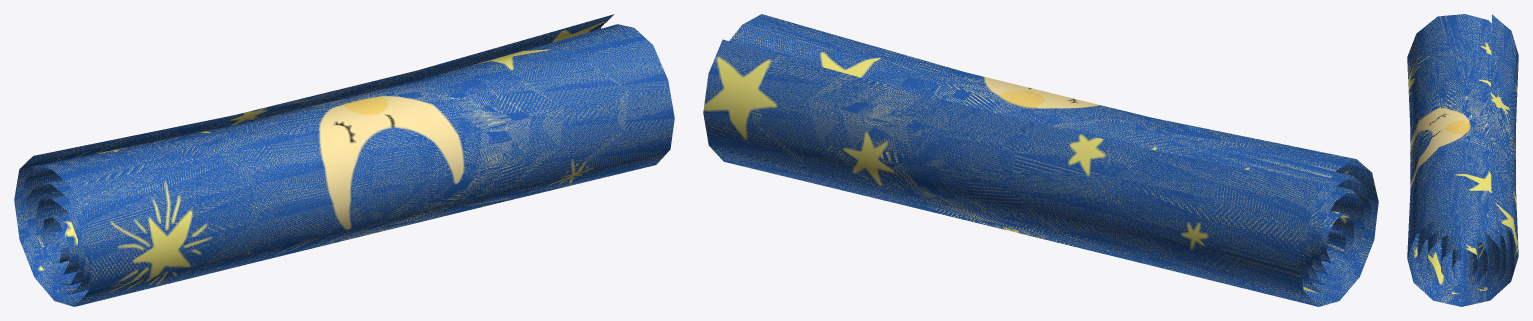
File: 157_paper_roll.glb
3 views of the same model, side by side, from view 1: azimuth 30°, elevation 25°; view 2: azimuth 150°, elevation 25°; view 3: azimuth 270°, elevation 25° (orthographic). The views are drawn at different scales.
Visible parts, largest first — view 1: Ins, Ext; view 2: Ins, Ext; view 3: Ins, Ext.
Part boxes in pixels (left/top/right/bottom): Ins: left=14, top=14, right=674, bottom=306; Ext: left=14, top=14, right=673, bottom=306; Ins: left=703, top=14, right=1378, bottom=306; Ext: left=704, top=15, right=1377, bottom=306; Ins: left=1407, top=14, right=1518, bottom=306; Ext: left=1407, top=15, right=1518, bottom=305.
Size of the model in its own units: 1.69 by 0.3596 by 0.3953.
2 materials, 2 textured.
